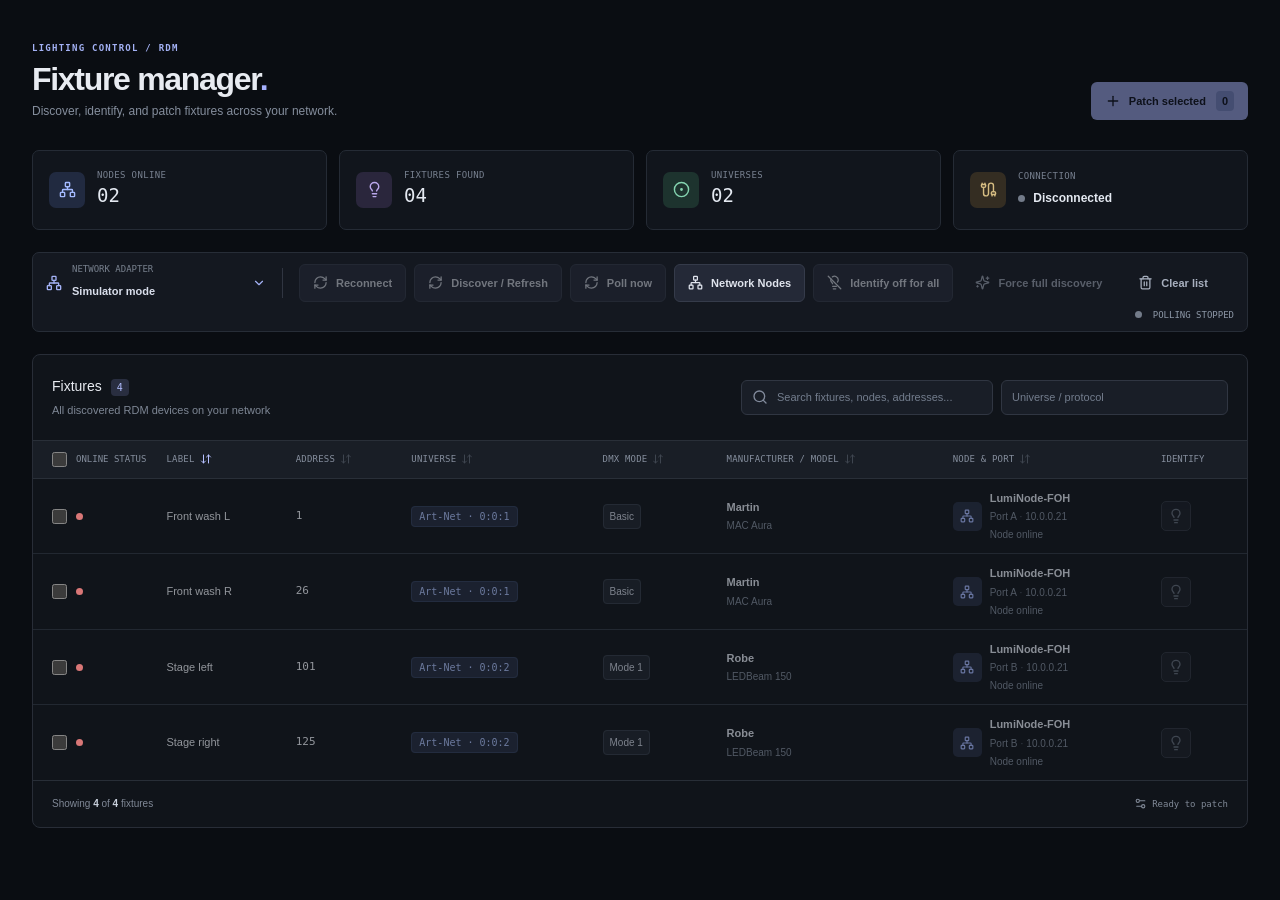
Test: does not display cached fixtures as online or allow commands while disconnected
This screenshot has width=1280, height=900.
Check: the 1st button with class "identify-icon" is disabled, box left=1161, top=501, right=1191, bottom=531
Click the row that starts with "Front wash L": x=640, y=516 left=33, top=478, right=1247, bottom=554
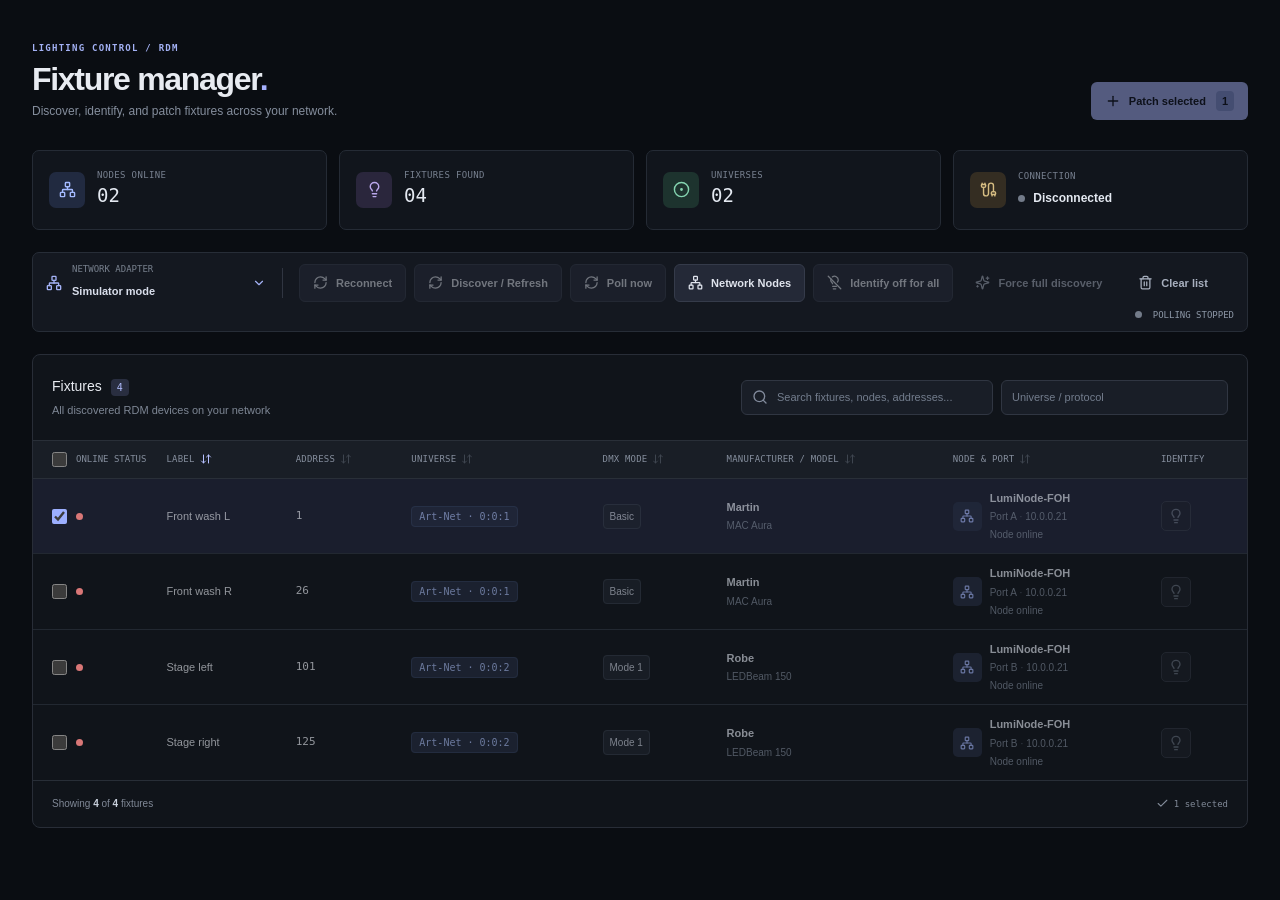
Right-click the row that starts with "Front wash L": x=640, y=516 left=33, top=478, right=1247, bottom=554
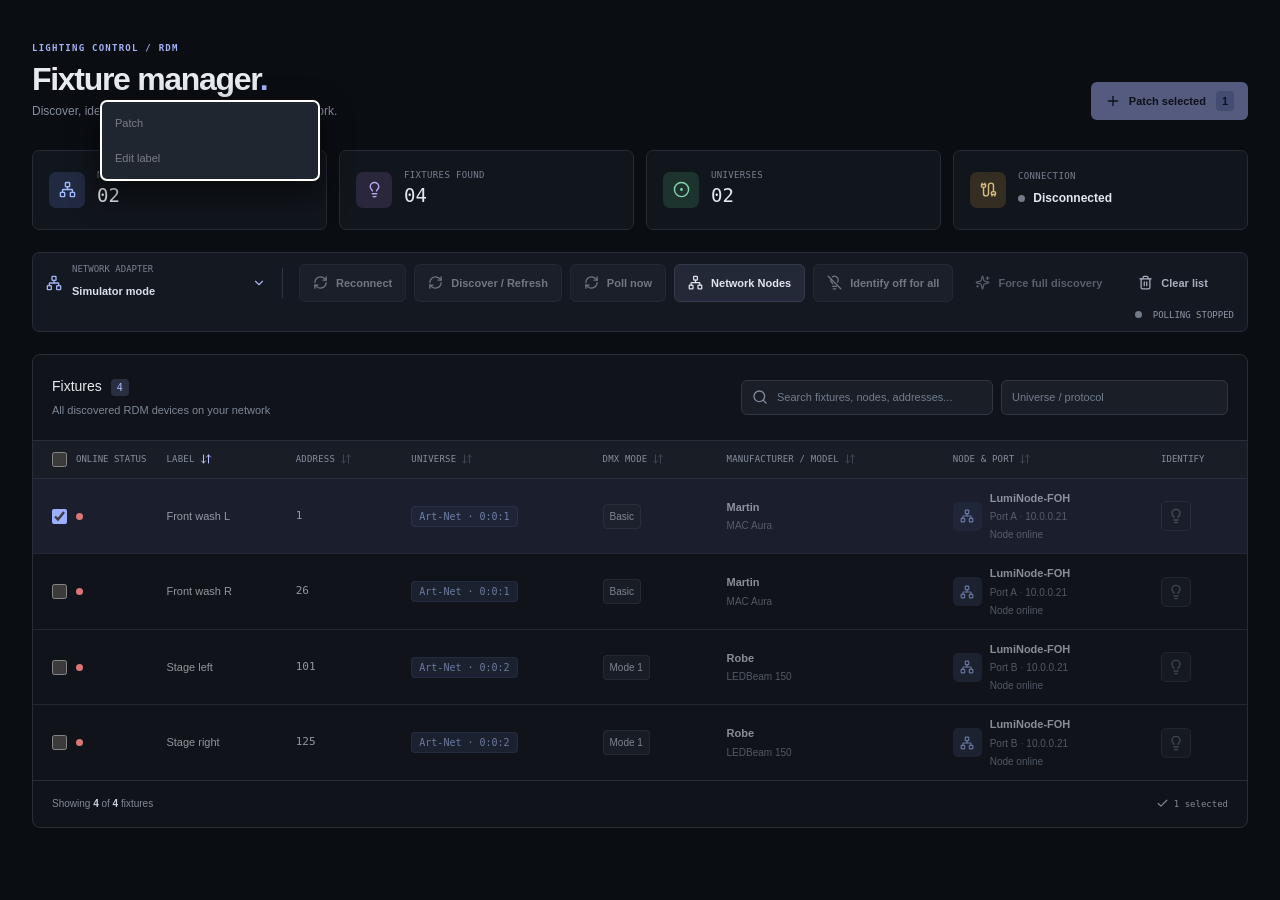
Check: the menu item "Edit label" is disabled, box left=106, top=140, right=314, bottom=175
